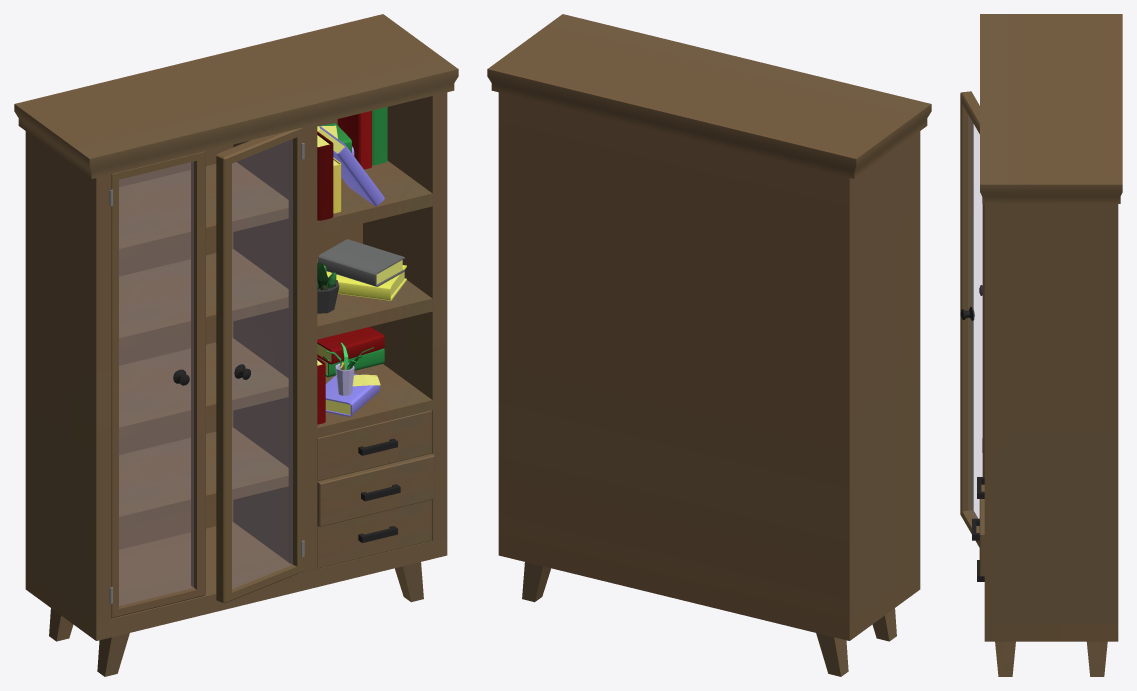
3 renders of one model, left to right at view 1: azimuth 30°, elevation 25°; view 2: azimuth 150°, elevation 25°; view 3: azimuth 270°, elevation 25°, orthographic. The views are drawn at different scales.
Parts seen in each view (by area): view 1: Bottom; view 2: Bottom; view 3: Bottom.
Part boxes in pixels (x1,y1,x2,y2): Bottom: (14, 14, 458, 676); Bottom: (487, 14, 931, 676); Bottom: (960, 14, 1122, 676).
Bounding box in the file's own units: 6.04 × 8.31 × 2.43.
2 materials, 2 textured.
